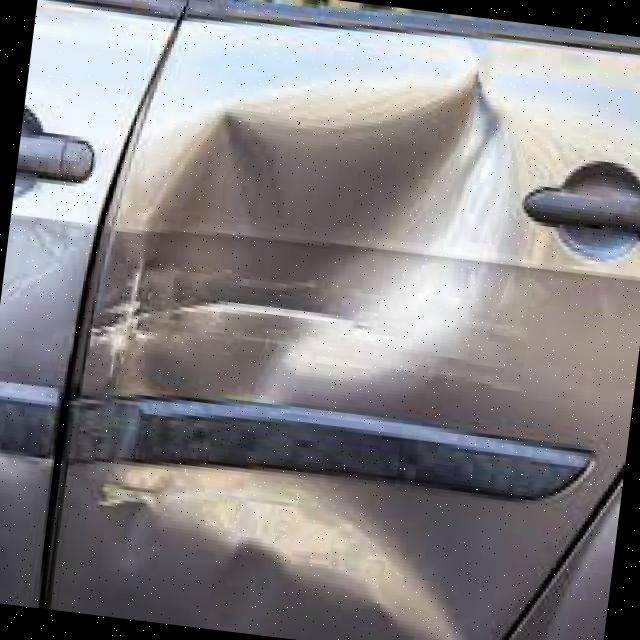Dent: (74, 29, 533, 640)
